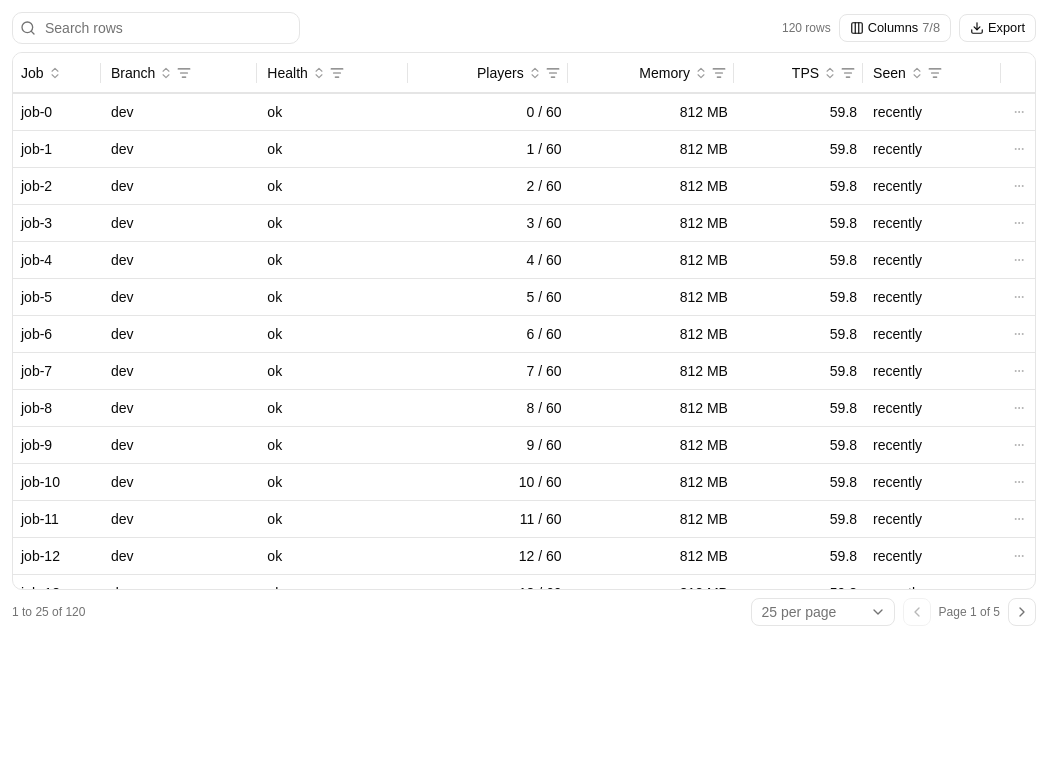
Test: DataTable states › pages large tables and keeps the page when rows change under it
Check: the text "Page 1 of 5" is shown, box 939,604 -> 1000,620
Click the button named "Next page": {"x": 1022, "y": 612} 1008,598 -> 1036,626
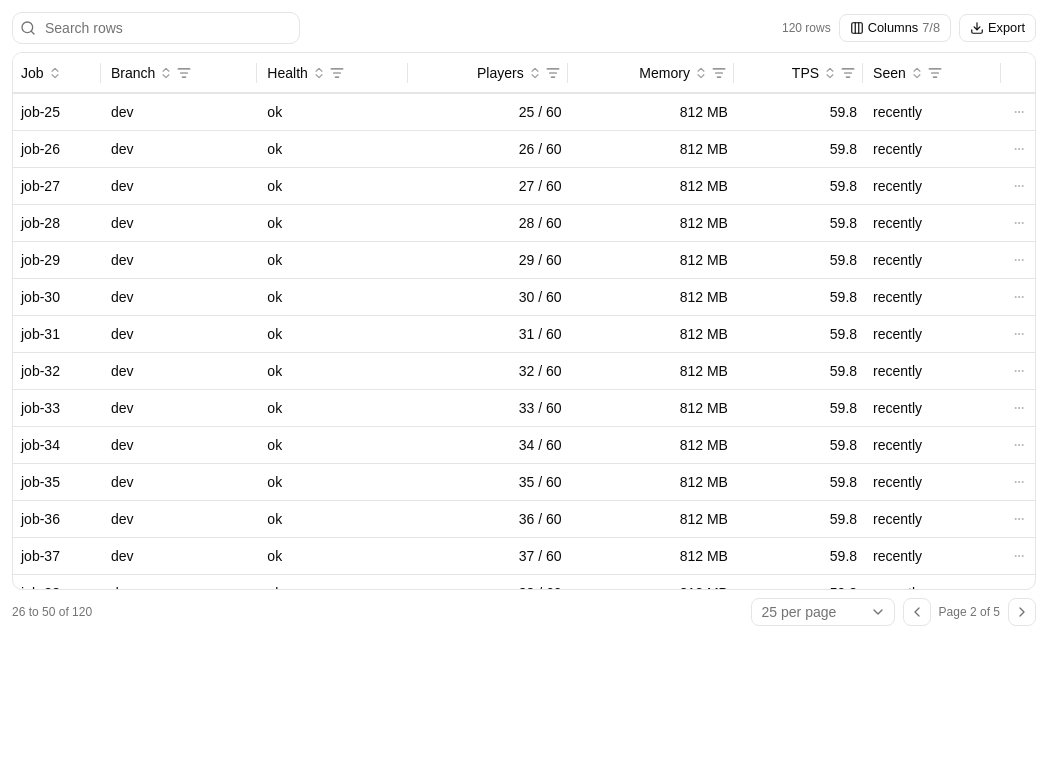
Check: the cell "job-25" is shown, box 13,93 -> 103,130
Check: the text "26 to 50 of 120" is shown, box 12,604 -> 92,620
// Sorting goes back to page one.
Click the button "Players": {"x": 509, "y": 73} 473,61 -> 546,85
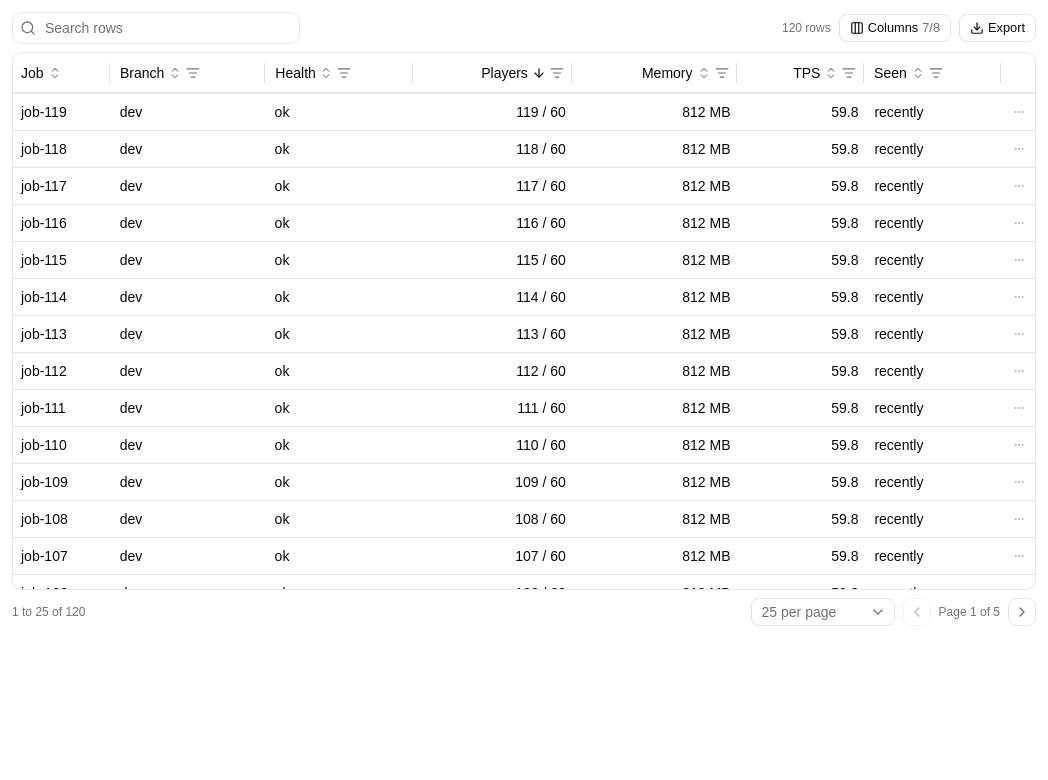
Check: the cell "job-119" is shown, box 13,93 -> 112,130
Check: the text "Page 1 of 5" is shown, box 939,604 -> 1000,620
